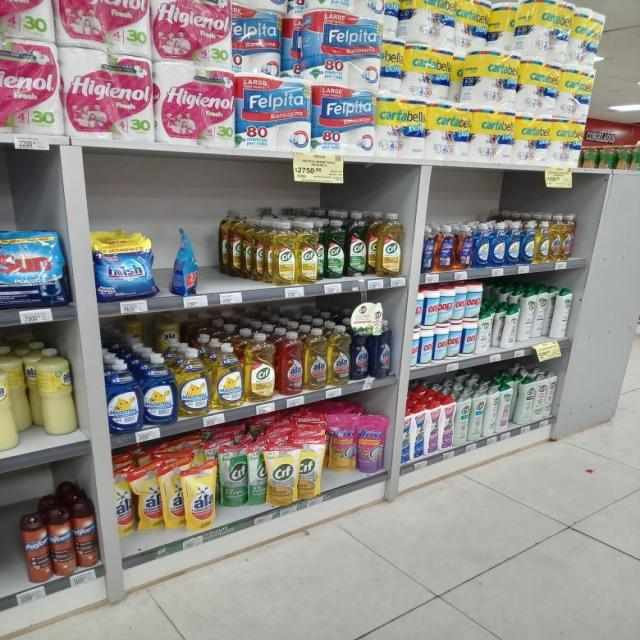ala_conc_amarillo: (304, 327, 327, 391), (328, 325, 350, 386), (562, 213, 574, 260), (550, 214, 561, 262)
ala_conc_azul: (372, 322, 393, 378), (350, 324, 370, 380)
ala_conc_rojo: (277, 330, 303, 396)
ala_crem_amarillo: (0, 344, 23, 454)
ala_sachet_amarillo: (185, 464, 216, 530), (136, 466, 162, 530), (162, 464, 184, 531)
cif_conc_bot_amarilla: (245, 331, 275, 402), (268, 220, 296, 286), (378, 212, 403, 277), (226, 209, 249, 278), (296, 220, 320, 284), (367, 212, 380, 277)
cif_conc_botella_verde: (323, 219, 345, 279), (346, 212, 366, 277)
cif_conc_sachet_amarillo: (268, 444, 297, 505), (297, 442, 323, 501)
cif_conc_sachet_verde: (220, 443, 247, 507), (248, 442, 266, 506)
magistral_con_amarillo: (178, 347, 210, 417), (212, 342, 243, 409), (536, 216, 550, 263)
magistral_con_azul: (106, 358, 140, 433), (142, 353, 176, 425), (473, 222, 489, 268), (490, 221, 505, 267), (521, 218, 536, 264), (506, 220, 520, 266)
